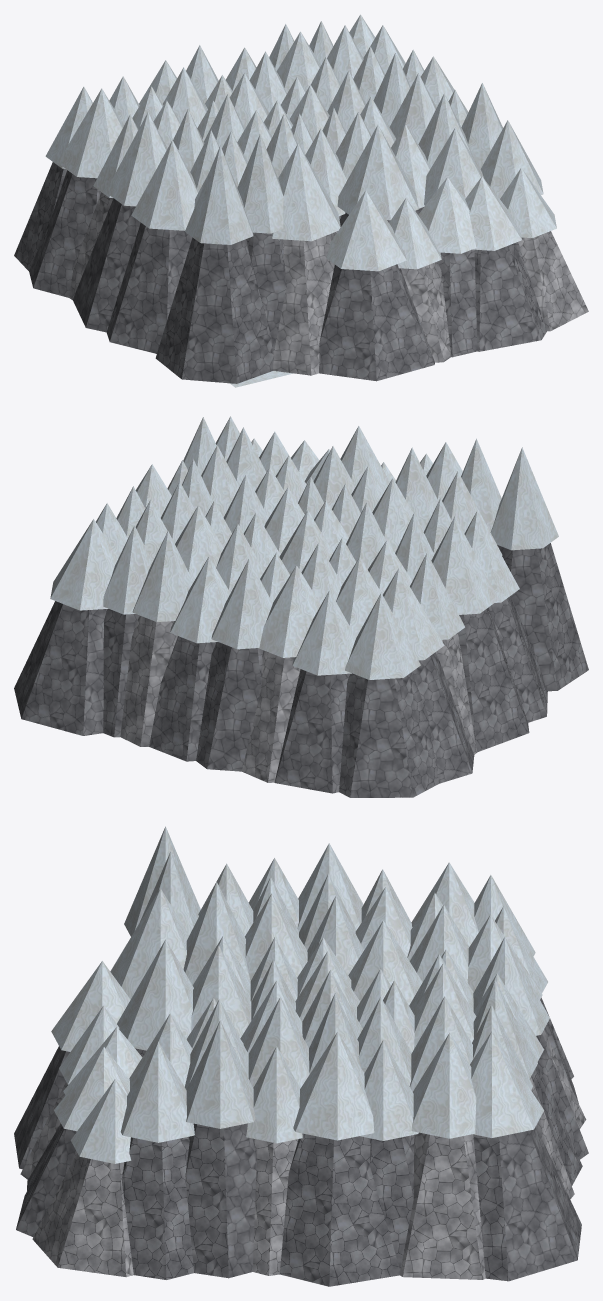
File: chunk_8_0.glb
3 renders of one model, top to bottom at view 1: azimuth 30°, elevation 25°; view 2: azimuth 150°, elevation 25°; view 3: azimuth 270°, elevation 25°, orthographic. The views are drawn at different scales.
Visible parts, largest first — view 1: chunk_8_0; view 2: chunk_8_0; view 3: chunk_8_0.
Part boxes in pixels (bbox=[...]): chunk_8_0: bbox=[14, 14, 588, 387]; chunk_8_0: bbox=[14, 416, 588, 797]; chunk_8_0: bbox=[14, 826, 588, 1286].
Bounding box in the file's own units: 21.28 × 10.11 × 20.8.
Materials: 6 (6 with a texture image).
